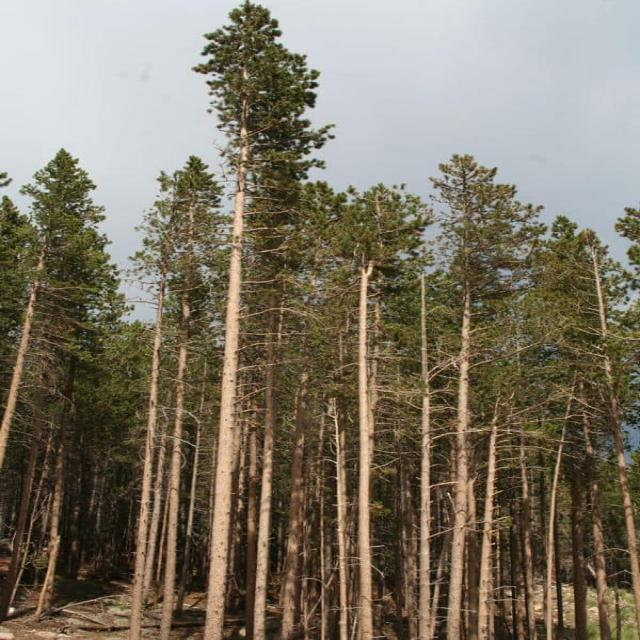Pinus contorta var: (188, 2, 334, 639), (425, 143, 540, 640)
